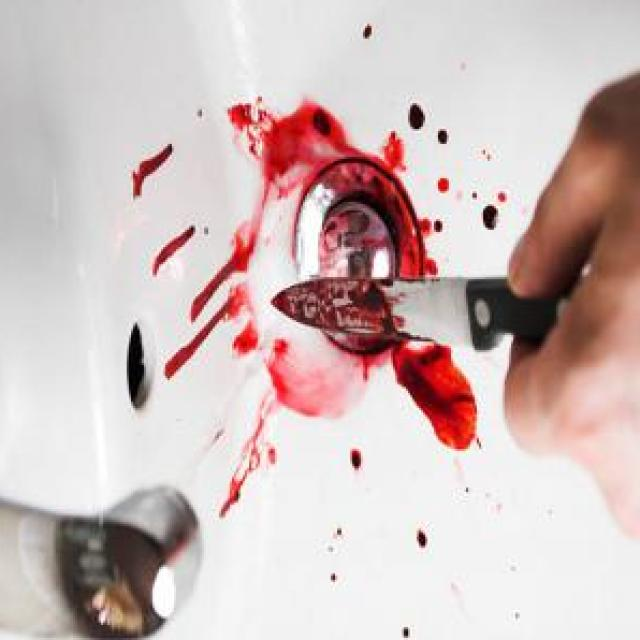knife: (268, 272, 590, 348)
